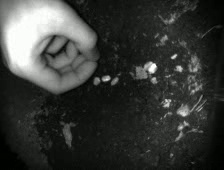corn: (141, 58, 156, 73), (108, 75, 122, 88), (145, 62, 159, 75), (90, 74, 102, 88), (99, 73, 113, 85)
